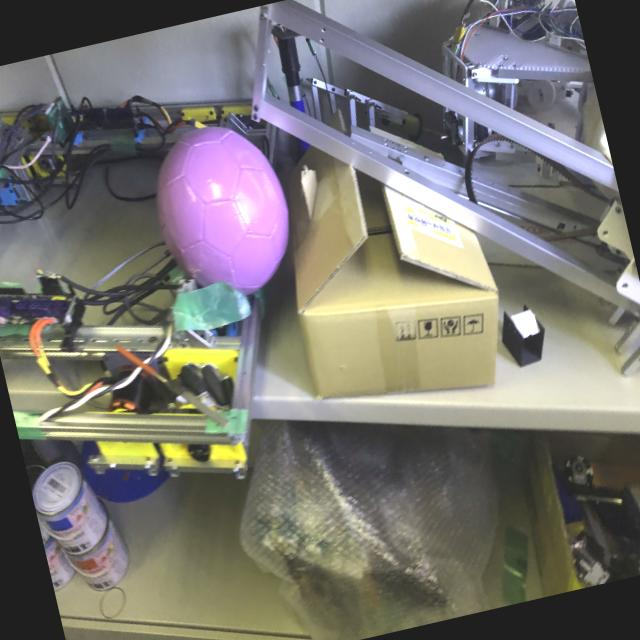purple_ball: (142, 113, 305, 307)
